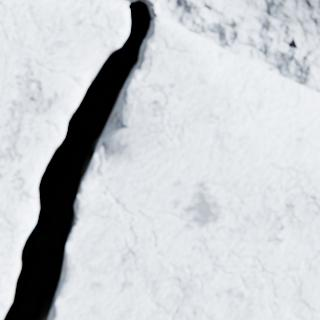broken_brick: (51, 15, 319, 319), (0, 0, 128, 316)
crack: (0, 0, 152, 319)
